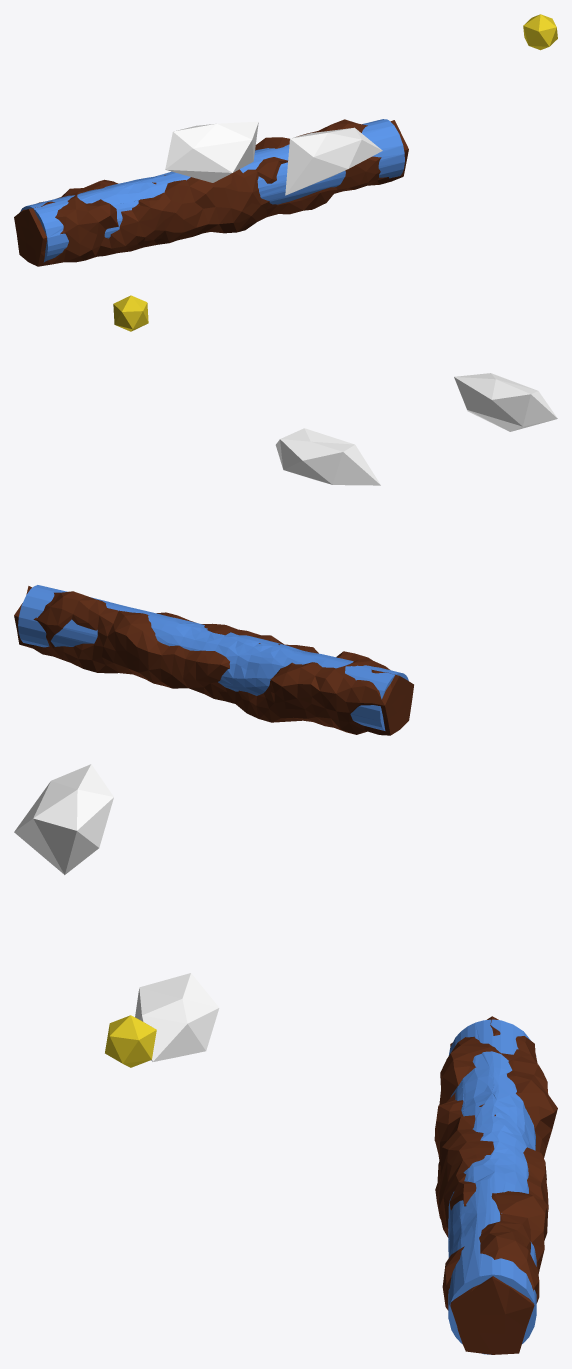
File: main_scenario.gltf
The picture shows the model from 3 angles, top to bottom: view 1: azimuth 30°, elevation 25°; view 2: azimuth 150°, elevation 25°; view 3: azimuth 270°, elevation 25°; orthographic projection. The views are drawn at different scales.
Parts seen in each view (by area): view 1: ground, cloud, cloud.001, Icosphere; view 2: ground, cloud.001, cloud, Icosphere; view 3: ground, cloud, cloud.001, Icosphere.
Boxes of the visible parts, bbox=[...] form: ground: bbox=[14, 119, 408, 266]; cloud: bbox=[165, 121, 258, 182]; cloud.001: bbox=[285, 127, 382, 195]; Icosphere: bbox=[523, 14, 557, 50]; ground: bbox=[14, 585, 413, 735]; cloud.001: bbox=[275, 428, 380, 485]; cloud: bbox=[454, 373, 557, 431]; Icosphere: bbox=[113, 295, 148, 331]; ground: bbox=[434, 1016, 557, 1354]; cloud: bbox=[14, 764, 113, 874]; cloud.001: bbox=[135, 973, 219, 1061]; Icosphere: bbox=[105, 1015, 156, 1067].
Size of the model in its own units: 23.97 by 14.27 by 18.68.
